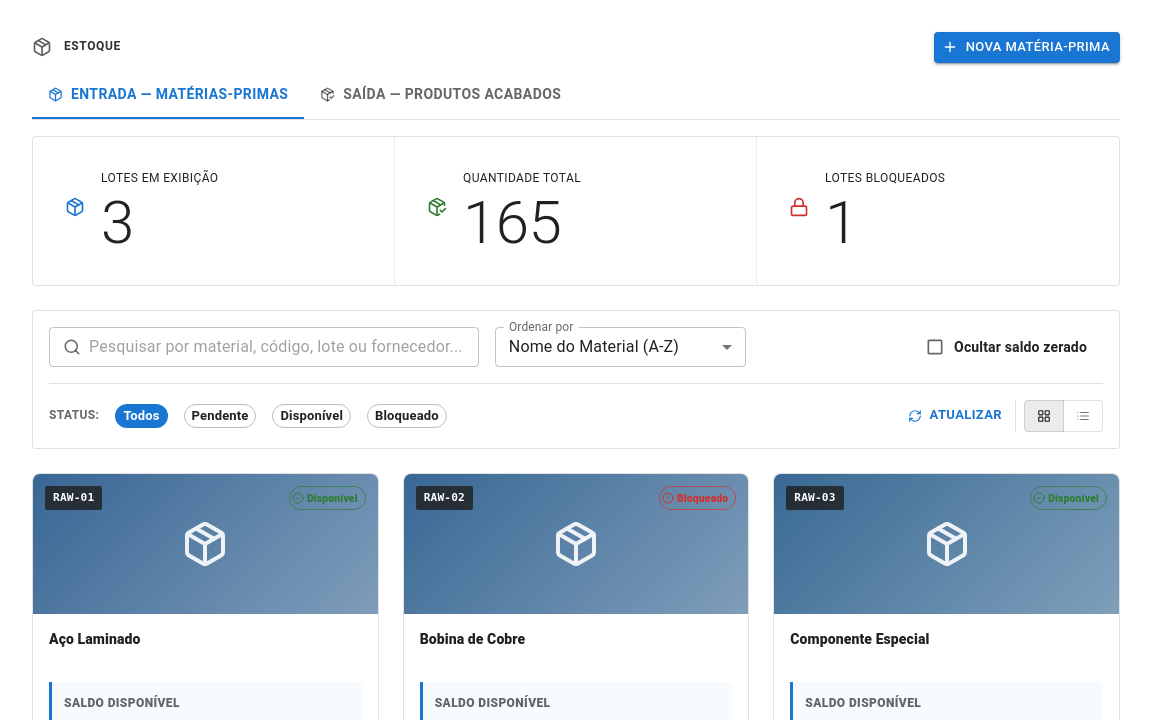
InventoryStocksPage › filters data by search query input
Expected: the heading "Aço Laminado" is shown, [49,631,140,647]
Expected: the heading "Bobina de Cobre" is shown, [420,631,525,647]
# Search for "Gerdau"
Type "Gerdau" into the field with placeholder "Pesquisar por material, código, lote ou fornecedor..." at (284,347), box [89,327,479,367]
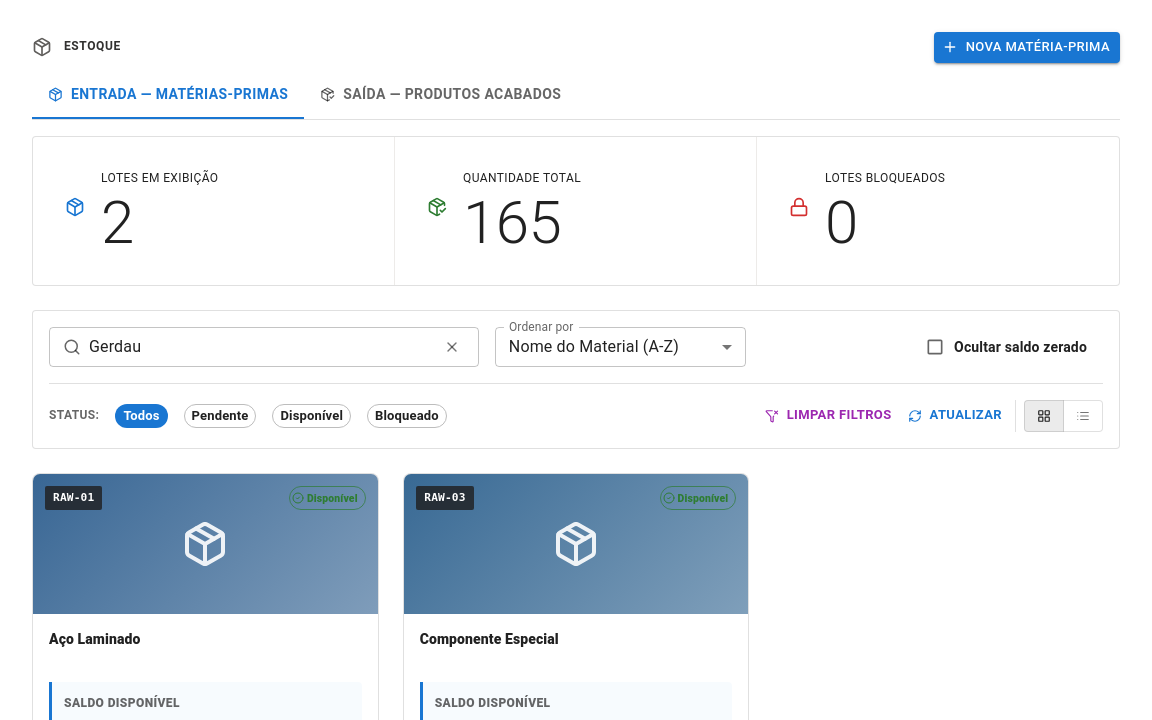
Expected: the heading "Aço Laminado" is shown, [49,631,140,647]
Now the heading "Bobina de Cobre" is gone
# Search for "RAW-01"
Replace the text in the field with placeholder "Pesquisar por material, código, lote ou fornecedor..." with "RAW-01" at (260,347), box [89,327,431,367]
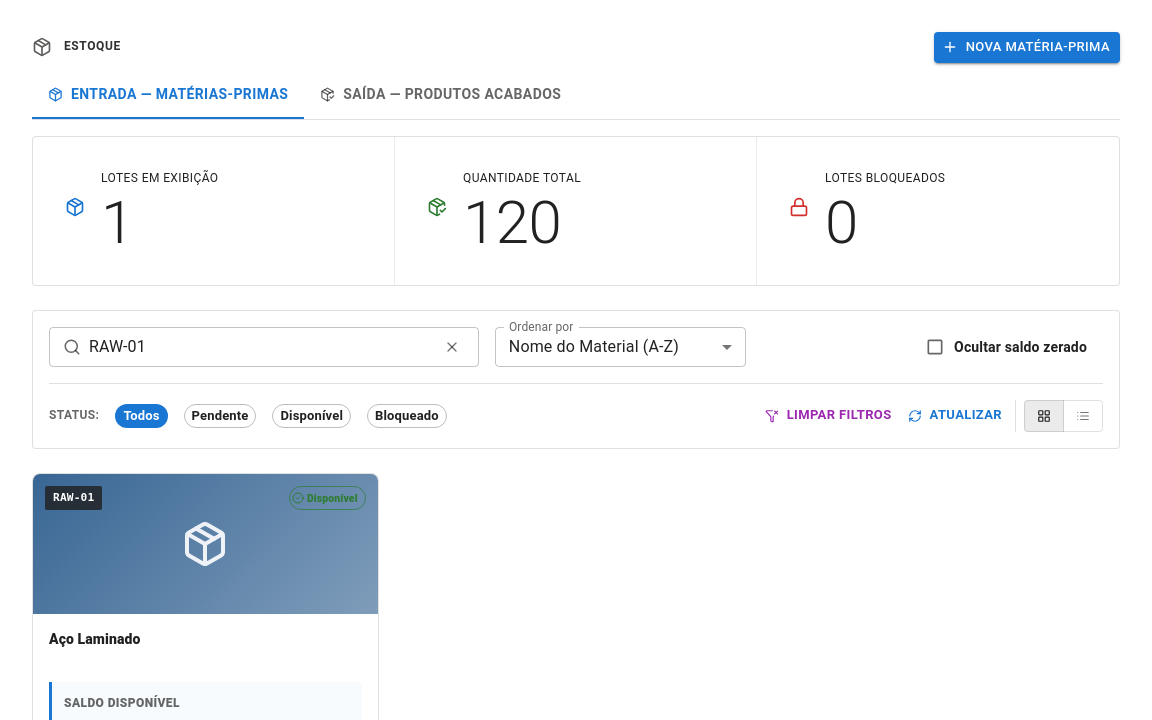
Expected: the heading "Aço Laminado" is shown, [49,631,140,647]
Now the heading "Componente Especial" is gone
